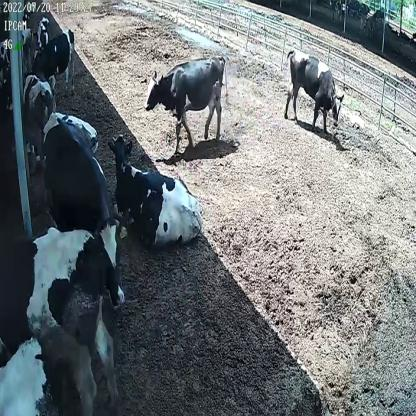cow: (40, 112, 133, 314), (105, 131, 205, 250), (142, 52, 230, 148), (285, 45, 346, 133), (29, 29, 79, 93), (35, 12, 50, 52)
